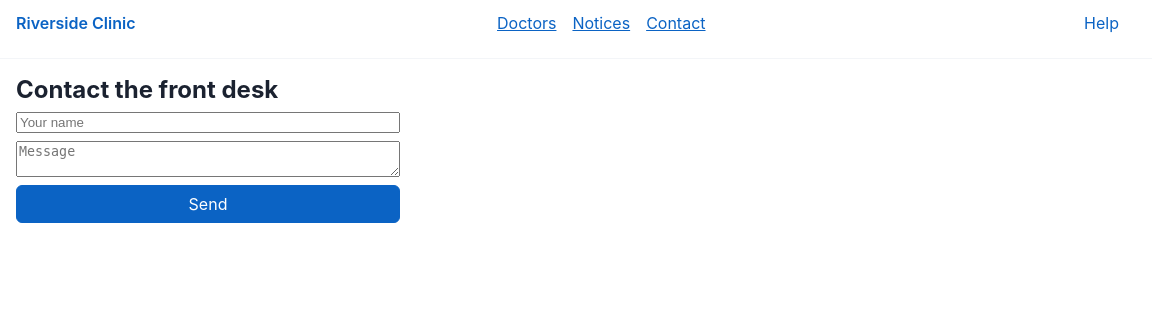
it: contact › sends a message and says so
This screenshot has width=1152, height=309.
Type "Rosa" into the field with placeholder "Your name" at {"x": 208, "y": 122}, box [16, 112, 400, 133]
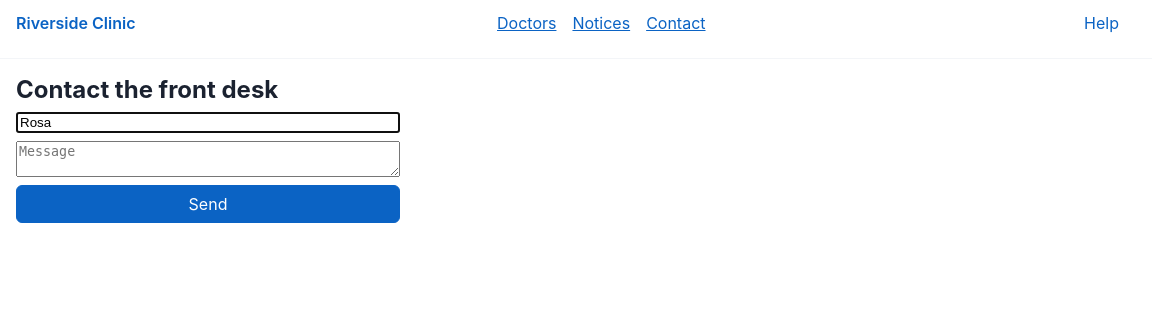
Type "Is the clinic open on Monday?" into the text box with placeholder "Message" at {"x": 208, "y": 159}, box [16, 141, 400, 177]
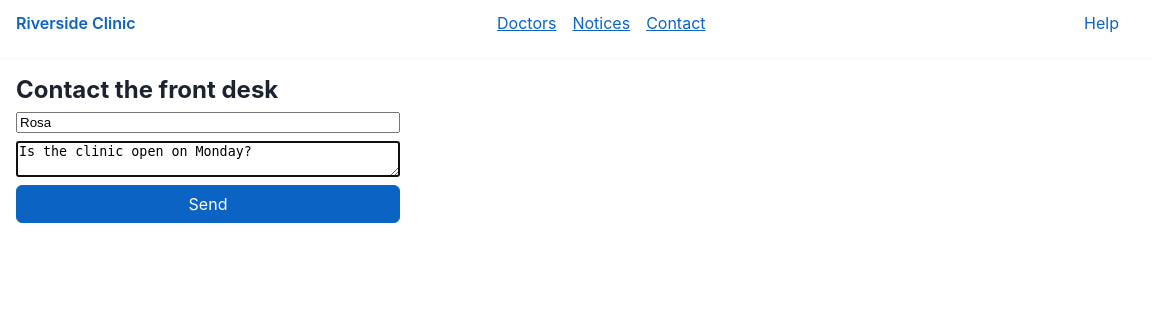
Click the button "Send" at {"x": 208, "y": 204}, box [16, 185, 400, 223]
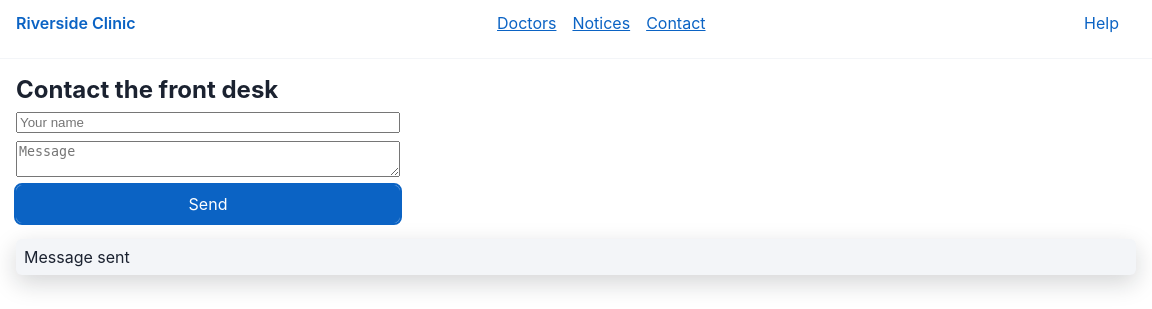
Result: the text "Message sent" is shown at [16, 239, 1136, 275]
